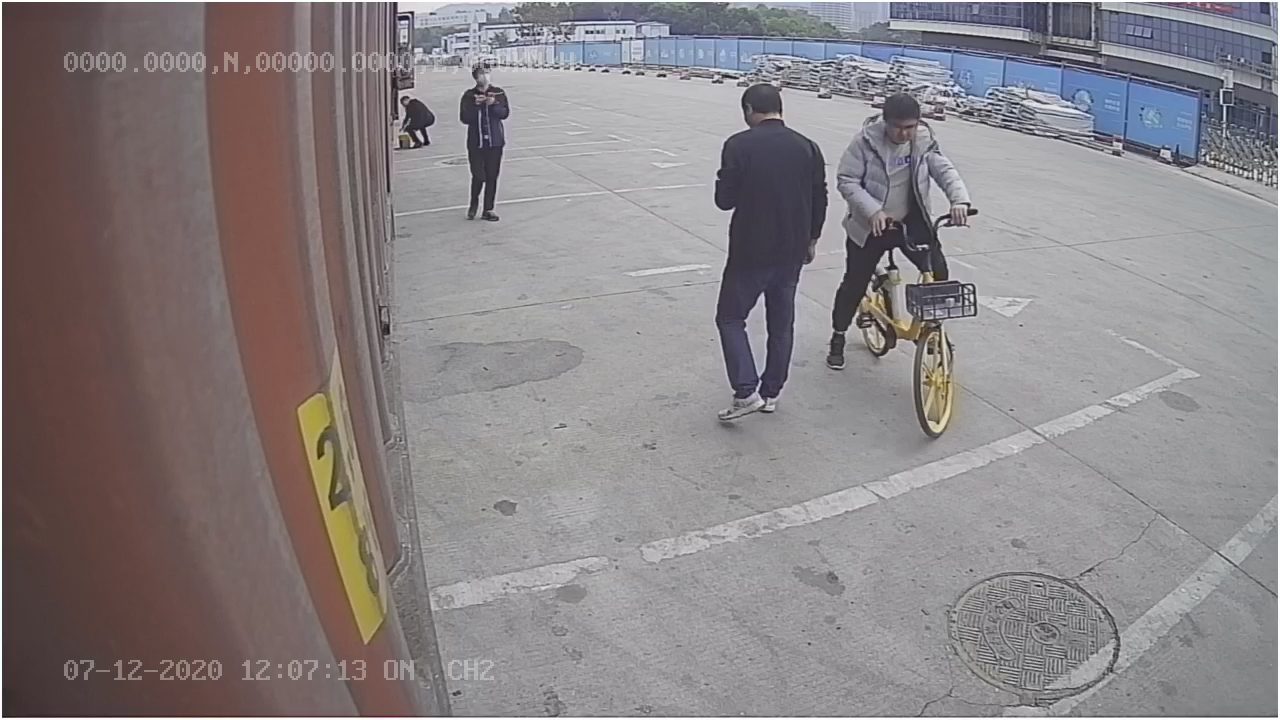person: (702, 79, 830, 422)
